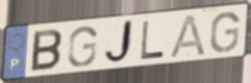A: (168, 12, 208, 59)
B: (28, 28, 64, 74)
G: (208, 10, 242, 54), (66, 25, 99, 68)
J: (102, 18, 135, 67)
L: (139, 20, 167, 62)
